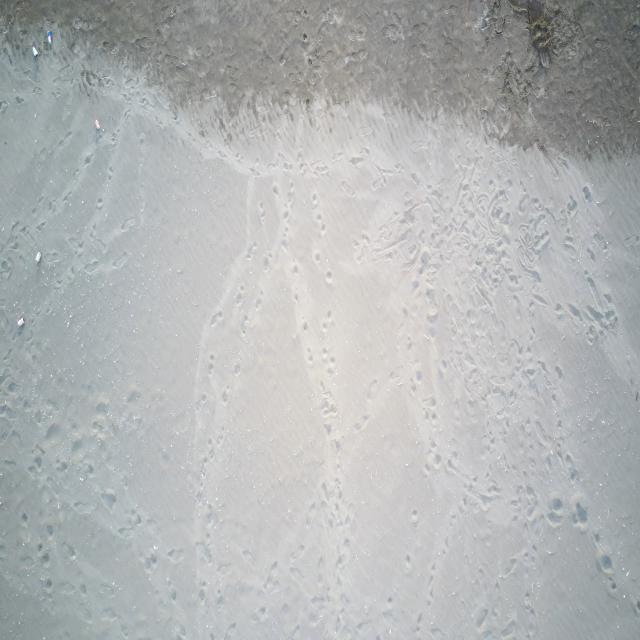tin-and-aluminum-cans: (34, 250, 42, 264), (32, 46, 40, 59), (16, 316, 24, 328), (94, 118, 102, 130), (47, 29, 52, 48)
